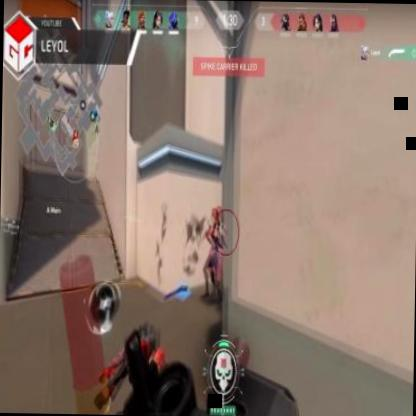enemy: (203, 207, 226, 306)
enemy_head: (212, 208, 221, 225)
